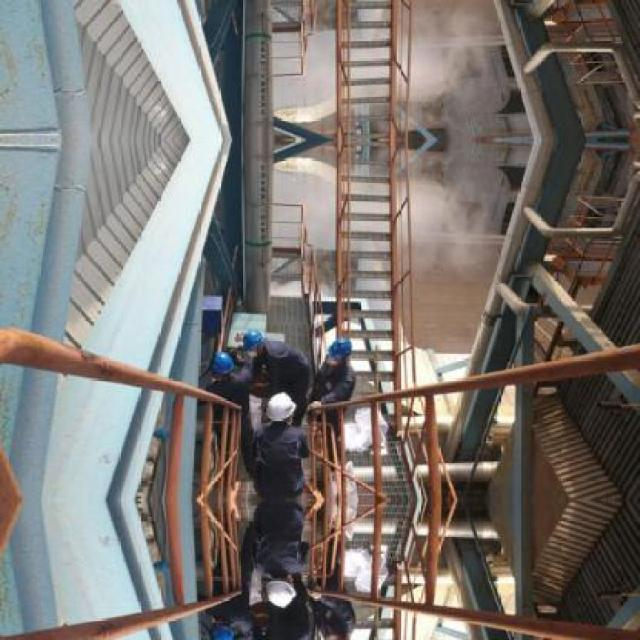helmet: (324, 335, 353, 367), (266, 389, 292, 423), (266, 576, 292, 610), (208, 349, 234, 380), (241, 328, 264, 354), (208, 618, 235, 638), (323, 631, 354, 638)
